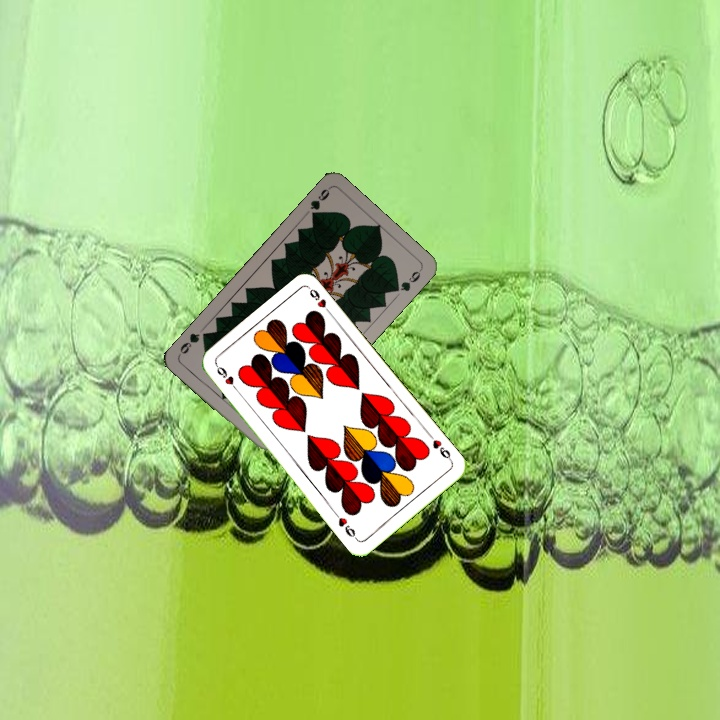G9: (306, 184, 332, 222)
H9: (425, 430, 455, 465), (212, 361, 242, 395)
